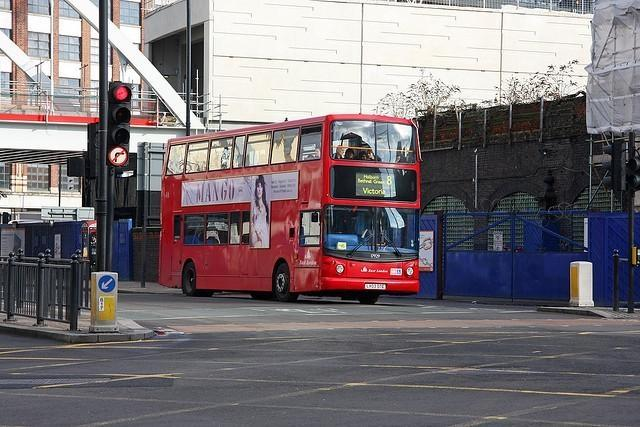bus: (154, 115, 420, 302)
